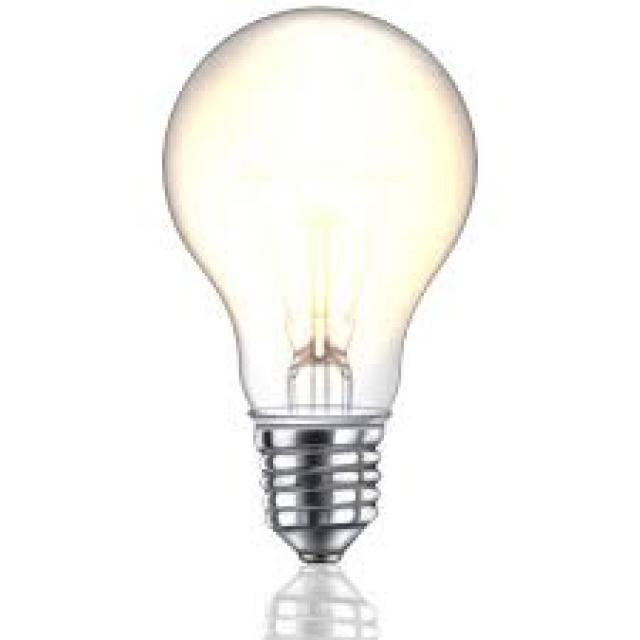bulb_on: (162, 12, 484, 559)
